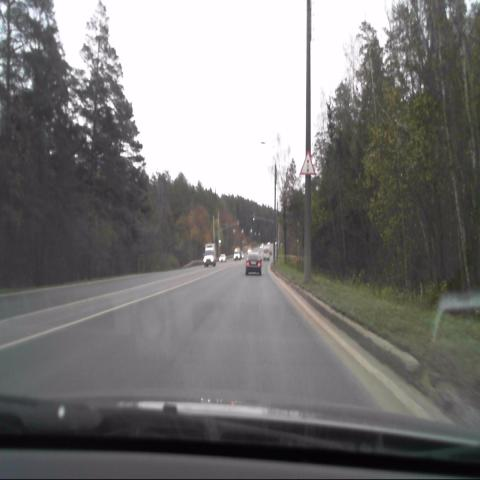1_8: (300, 151, 315, 177)
